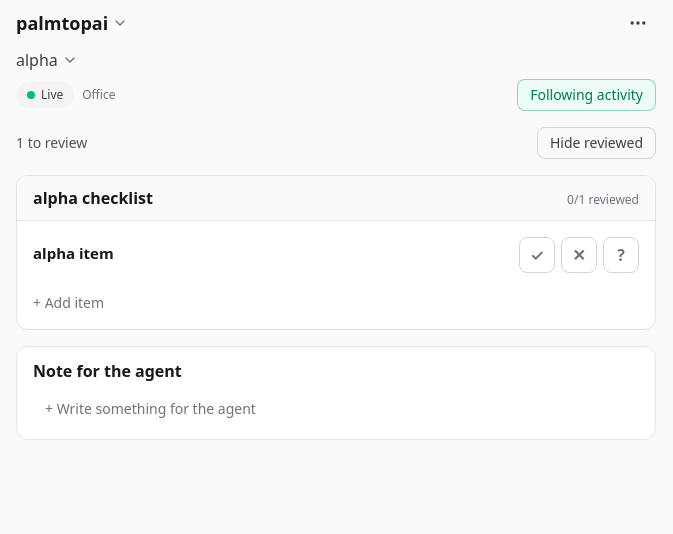
ProjectView › adding an item to a checklist sends it after the last one
Click the button "+ Add item" at (69, 303), box [25, 285, 112, 321]
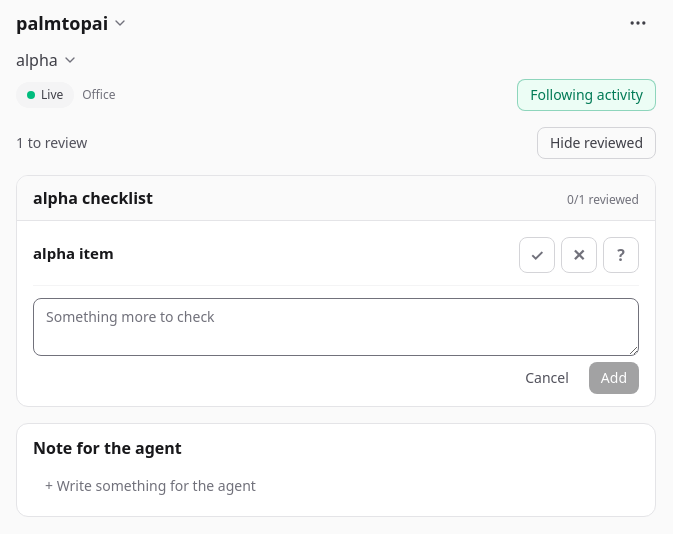
Type "Also check the login" into the text box named "New item for alpha checklist" at (336, 327), box [33, 298, 639, 356]
Then press Enter
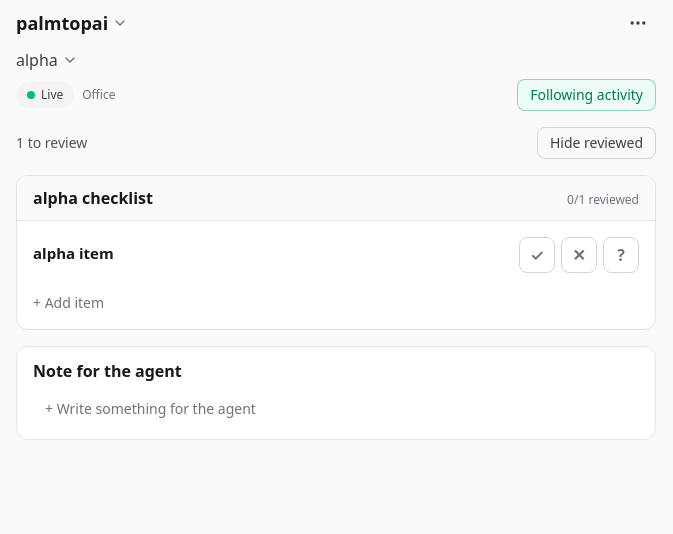
Now the button "+ Add item" is shown, box [25, 285, 112, 321]
